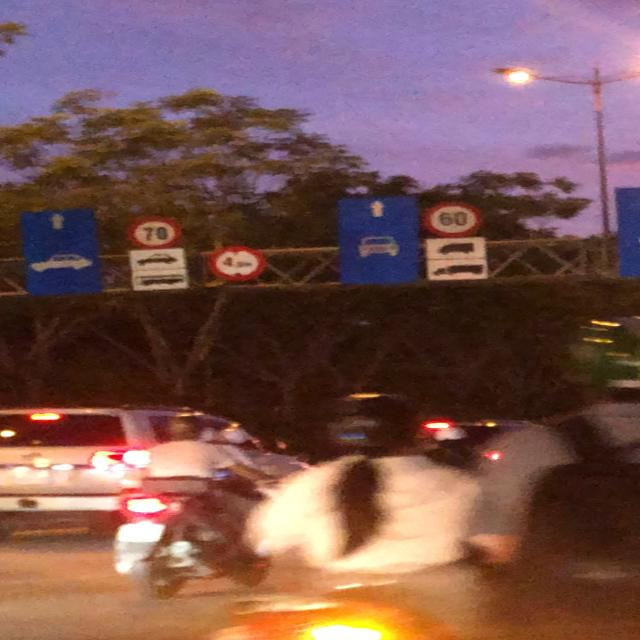Bien bao han che chieu cao: (208, 241, 264, 284)
Bien bao toc do toi da cho phep: (419, 197, 488, 238), (126, 214, 182, 252)
